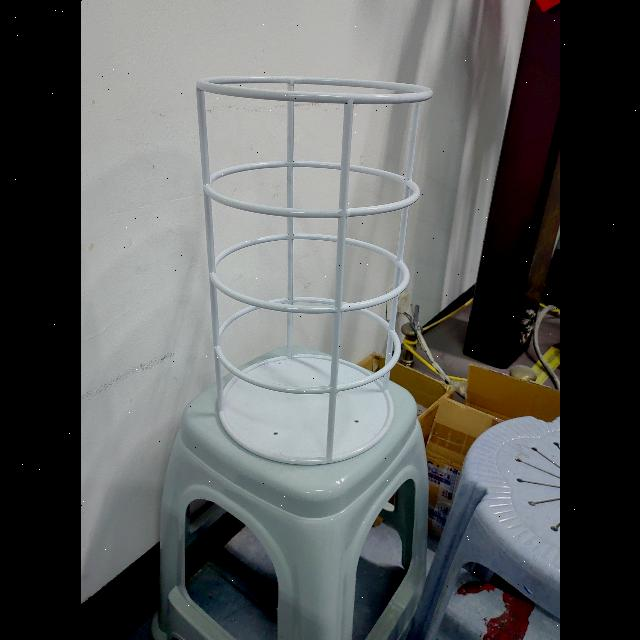S: (192, 74, 436, 472)
